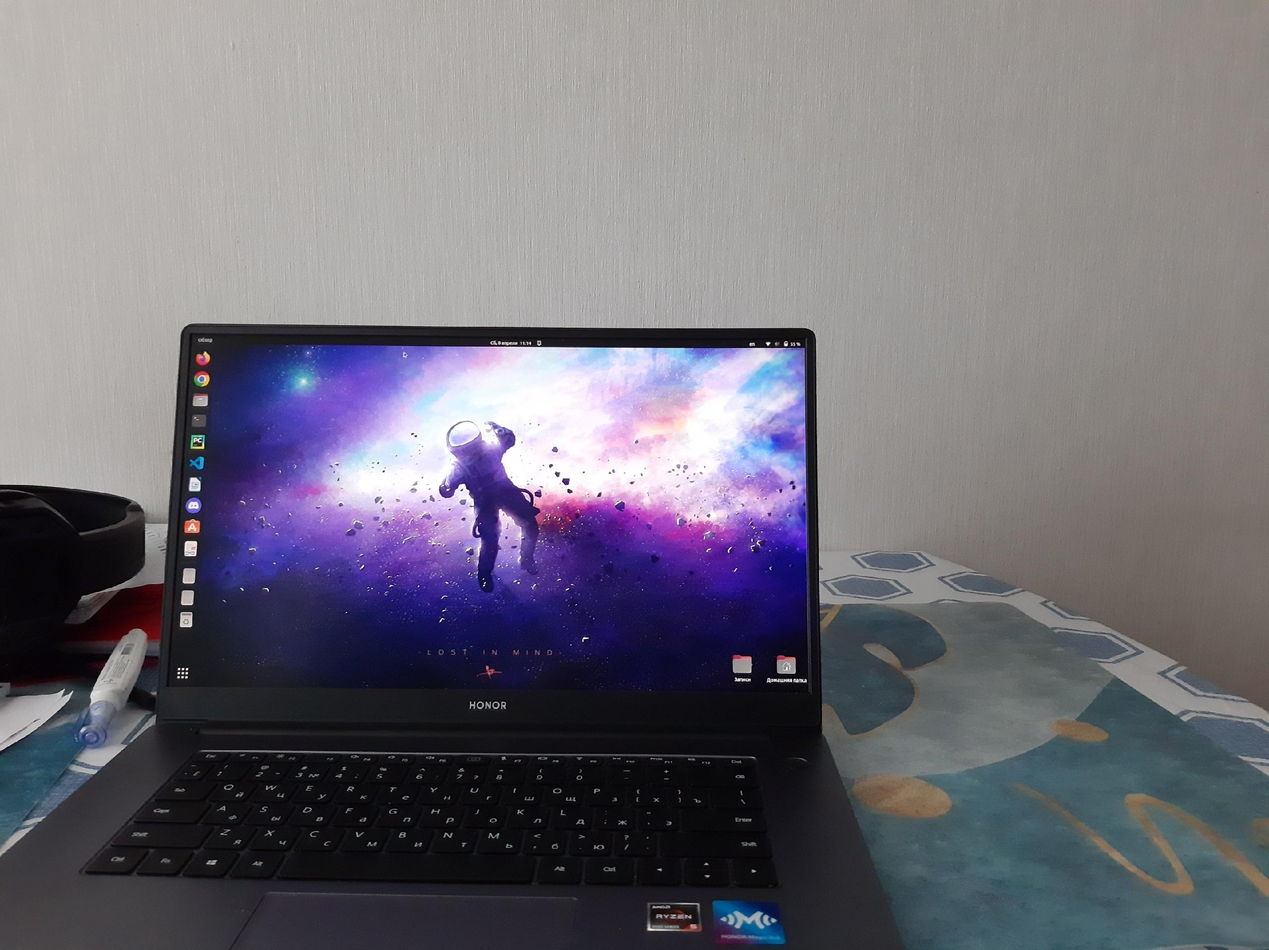monitor: (152, 314, 828, 734)
